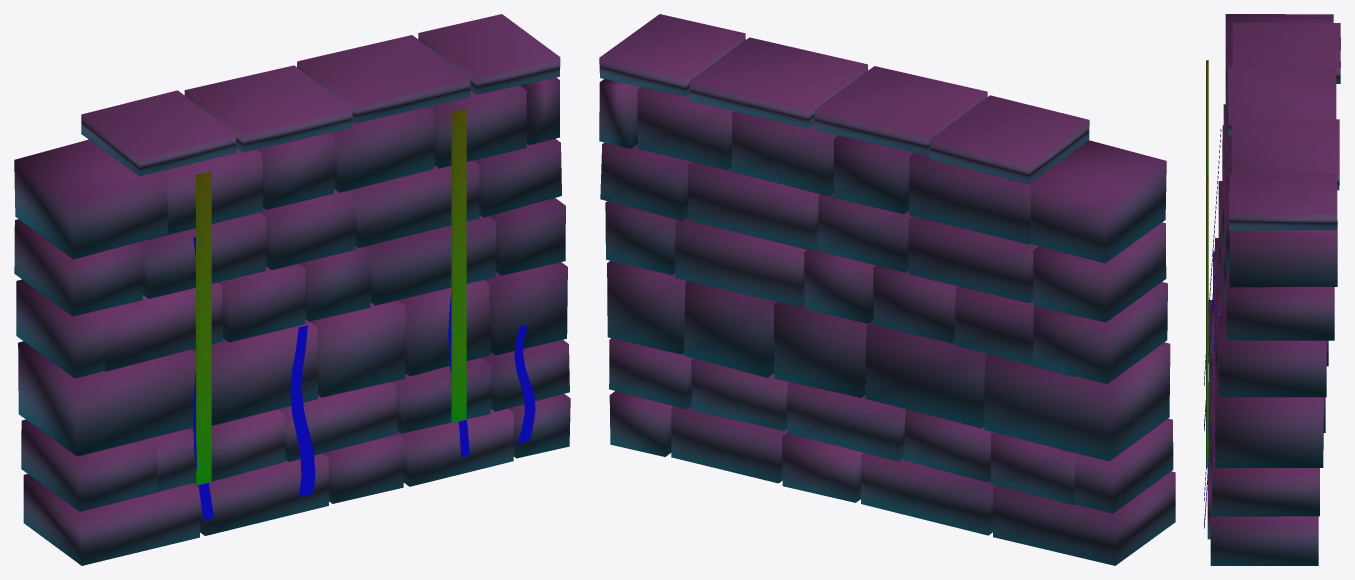
The model's file is lit_terrace_wall.glb.
3 views of the same model, side by side, from view 1: azimuth 30°, elevation 25°; view 2: azimuth 150°, elevation 25°; view 3: azimuth 270°, elevation 25° (orthographic). The views are drawn at different scales.
Parts seen in each view (by area): view 1: lit_terrace_wall; view 2: lit_terrace_wall; view 3: lit_terrace_wall.
Boxes of the visible parts, <box> form: lit_terrace_wall: <box>14,14,570,565</box>; lit_terrace_wall: <box>599,14,1175,565</box>; lit_terrace_wall: <box>1204,14,1340,565</box>.
Size of what is drawn, in the model's own units: 11.92 by 8.92 by 3.11.
